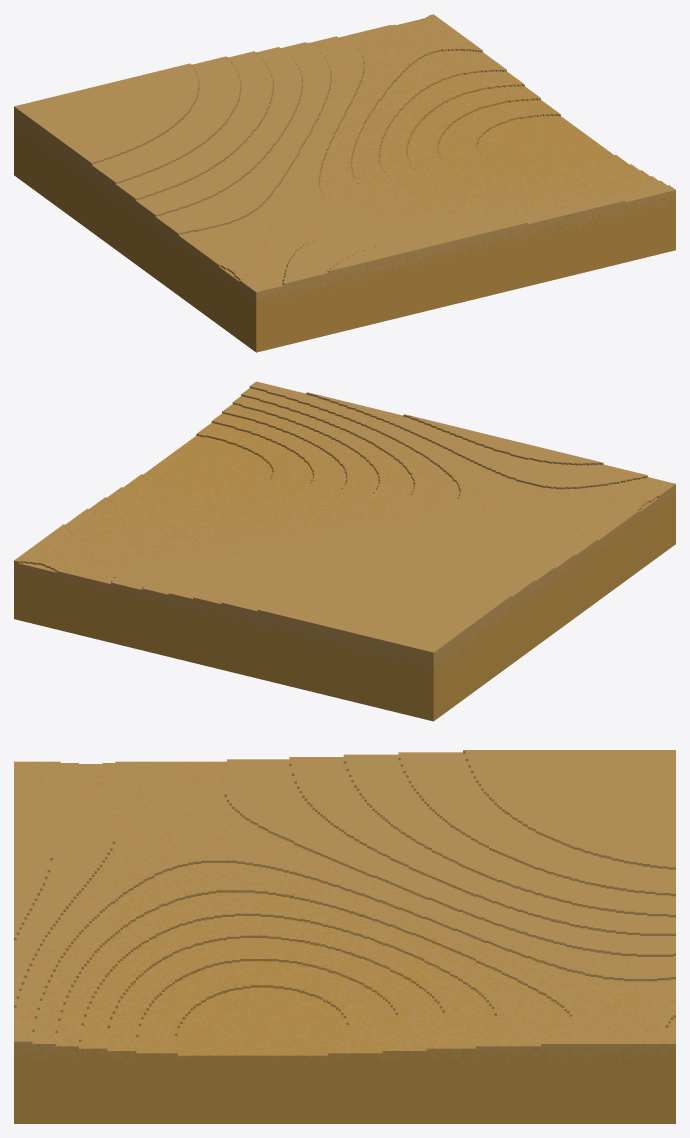
Rendered from Marte-4.obj.
3 renders of one model, top to bottom at view 1: azimuth 30°, elevation 25°; view 2: azimuth 150°, elevation 25°; view 3: azimuth 270°, elevation 25°, orthographic. The views are drawn at different scales.
Bounding box in the file's own units: 25.5 × 4 × 25.5.
1 material, 1 textured.
